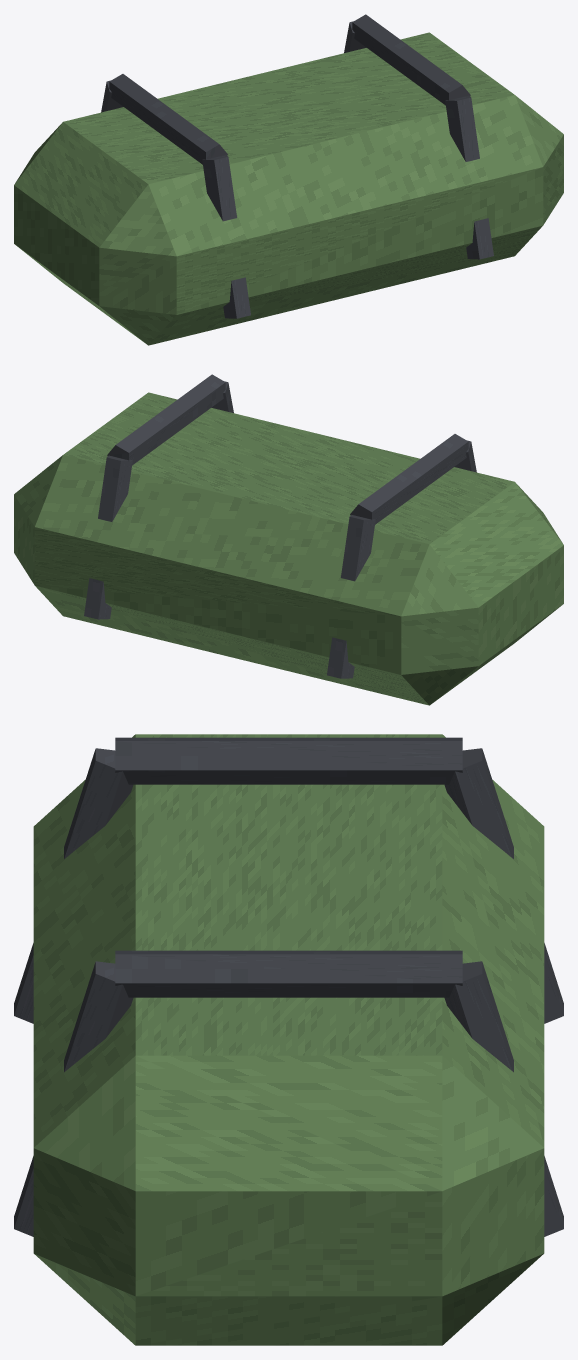
Rendered from large_tent_kit.glb.
The picture shows the model from 3 angles, top to bottom: view 1: azimuth 30°, elevation 25°; view 2: azimuth 150°, elevation 25°; view 3: azimuth 270°, elevation 25°; orthographic projection. The views are drawn at different scales.
Visible parts, largest first — view 1: block_case body, block_compression strap 1 (×2), block_compression strap 2 (×2); view 2: block_case body, block_compression strap 1 (×2), block_compression strap 0 (×2); view 3: block_case body, block_compression strap 1 (×2), block_compression strap 0 (×2), block_compression strap 2 (×2).
Boxes of the visible parts, x1,y1,x2,y2 form: block_case body: (14,32,563,345); block_compression strap 1 (×2): (109,14,470,164); block_compression strap 2 (×2): (202,95,493,318); block_case body: (14,392,563,705); block_compression strap 1 (×2): (107,374,468,524); block_compression strap 0 (×2): (84,455,375,678); block_case body: (33,734,544,1345); block_compression strap 1 (×2): (115,737,462,997); block_compression strap 0 (×2): (444,748,563,1236); block_compression strap 2 (×2): (14,748,133,1236).
Bounding box in the file's own units: 0.9 × 0.3507 × 0.5131.
Materials: 1 (1 with a texture image).
